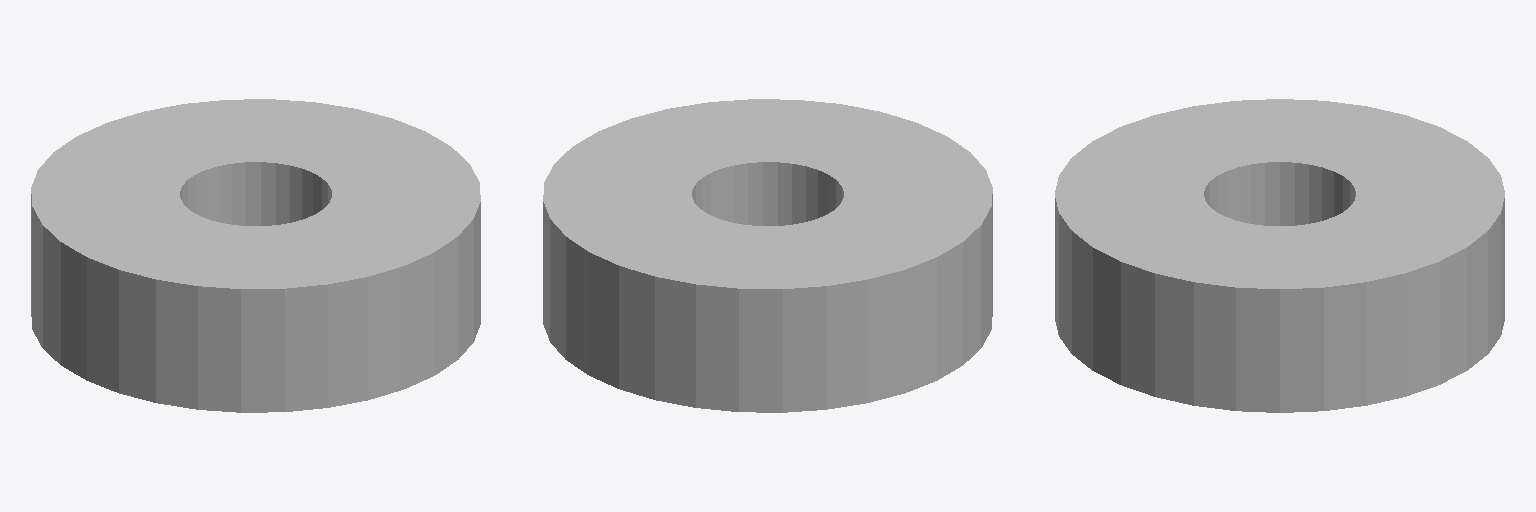
The model's file is tape 1.obj.
3 views of the same model, side by side, from view 1: azimuth 30°, elevation 25°; view 2: azimuth 150°, elevation 25°; view 3: azimuth 270°, elevation 25° (orthographic).
Parts seen in each view (by area): view 1: Circle_Baked; view 2: Circle_Baked; view 3: Circle_Baked.
Part boxes in pixels (left/top/right/bottom): Circle_Baked: left=31, top=99, right=480, bottom=412; Circle_Baked: left=543, top=99, right=992, bottom=412; Circle_Baked: left=1055, top=99, right=1504, bottom=412.
Bounding box in the file's own units: 0.1502 × 0.0454 × 0.1502.